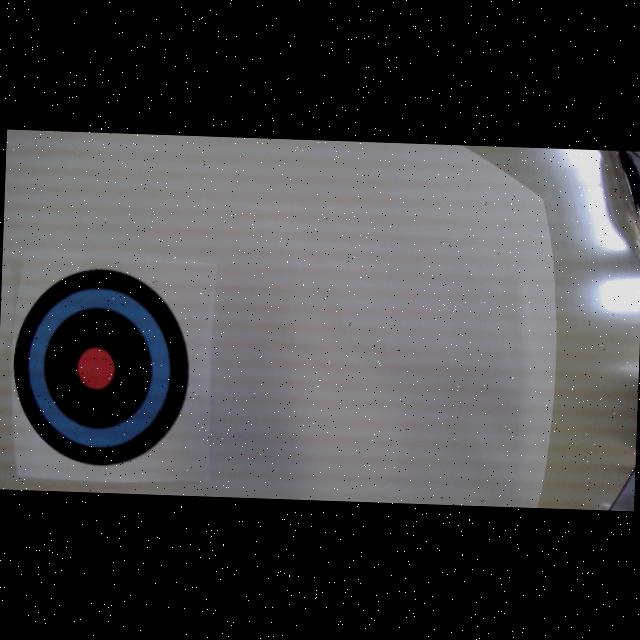COGNITIVE: (9, 266, 193, 470)
